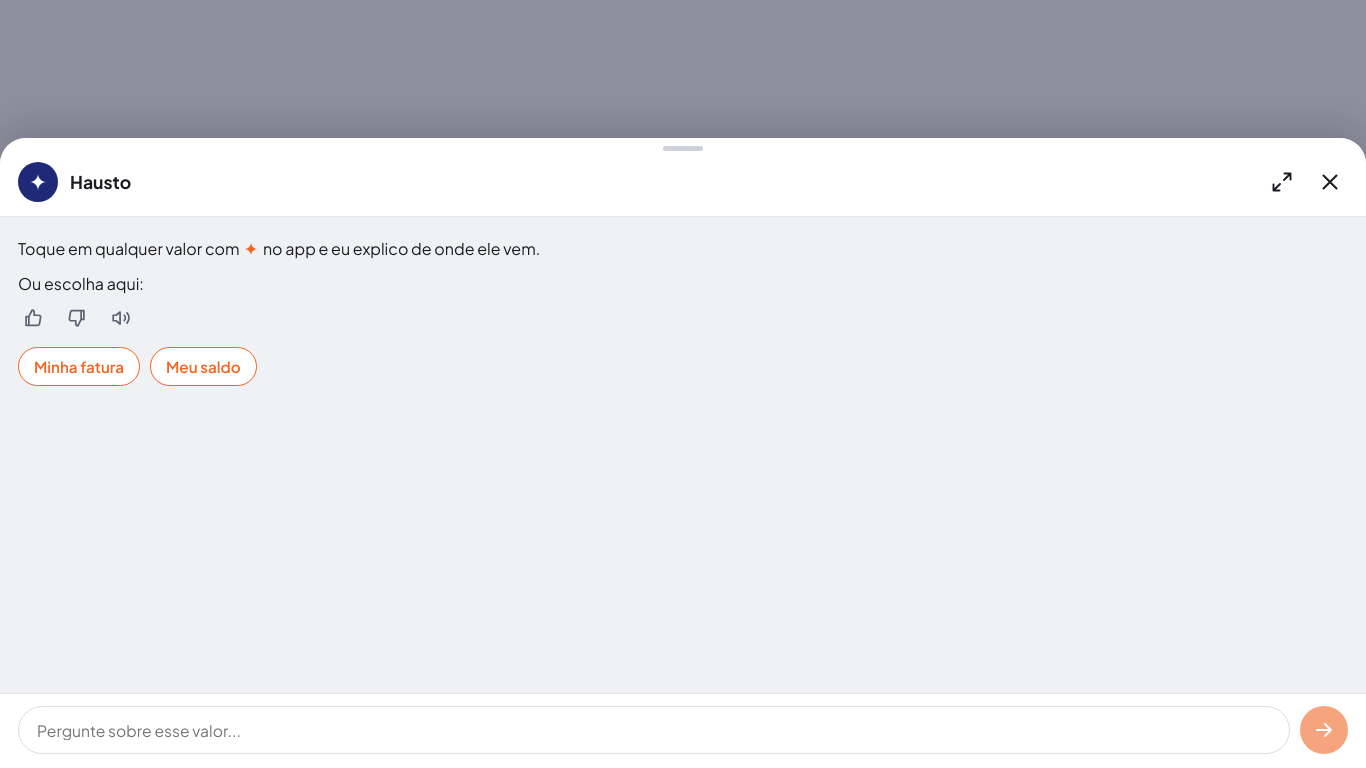
it: <Chat> › aberto sem origem mostra as boas-vindas e "Minha fatura" manda a âncora fatura
Expected: the text "Toque em qualquer valor com" is shown, [18,238,242,259]
Click the button "Minha fatura".
click(79, 366)  # box [18,347,140,386]
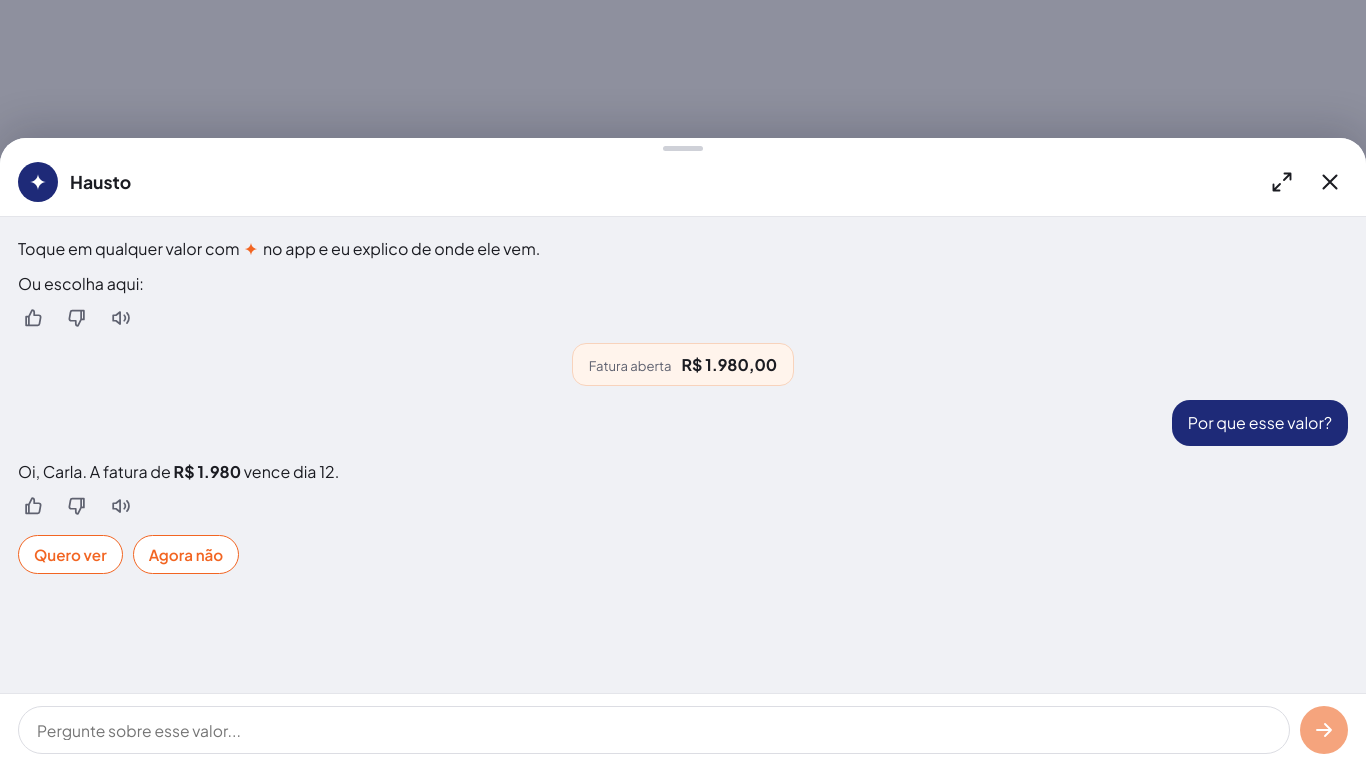
Expected: the button "Quero ver" is shown, [18,535,123,574]
